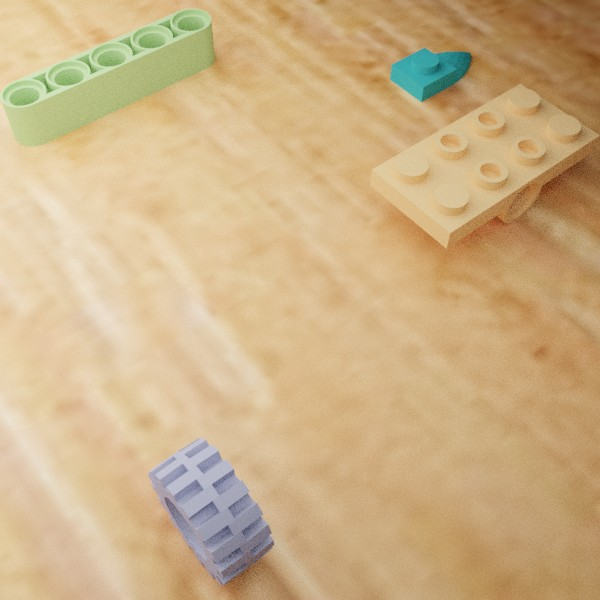lego: (370, 83, 600, 248), (0, 8, 215, 146), (148, 437, 274, 585), (389, 47, 471, 102)
